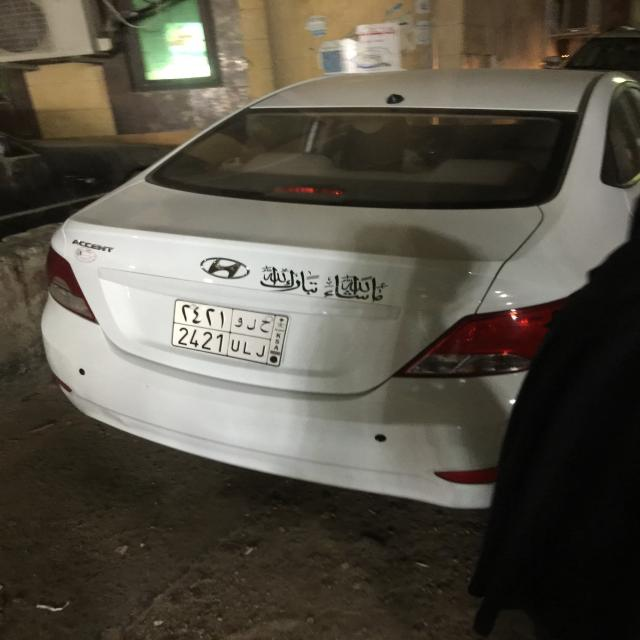license_plate: (170, 297, 292, 368)
